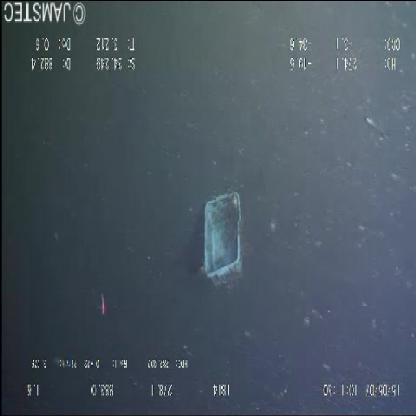Rác: (193, 184, 247, 300)
